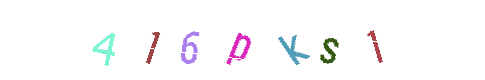1: (153, 0, 233, 80), (289, 0, 369, 80)
4: (94, 0, 174, 80)
6: (199, 0, 279, 80)
K: (225, 0, 305, 80)
P: (202, 0, 282, 80)
S: (255, 0, 335, 80)
